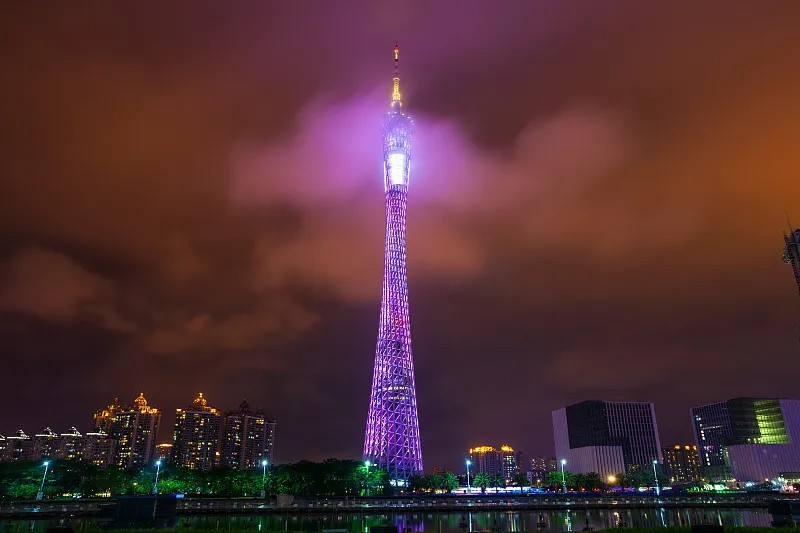Canton: (363, 39, 429, 475)
